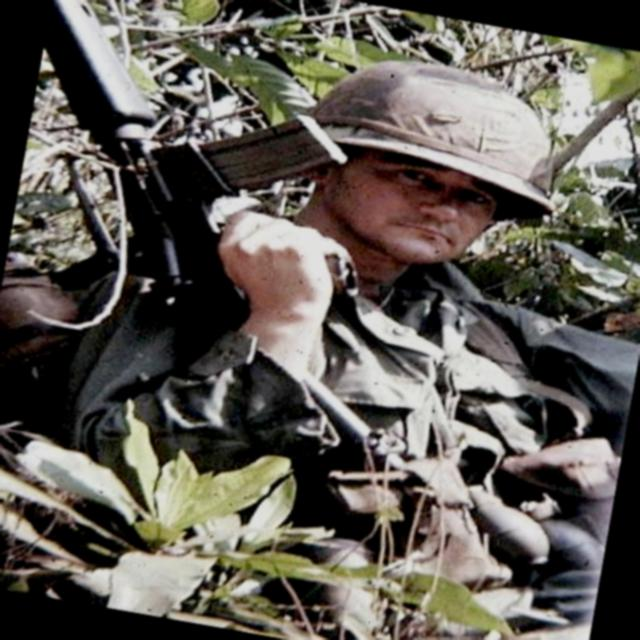m16: (0, 0, 416, 424)
